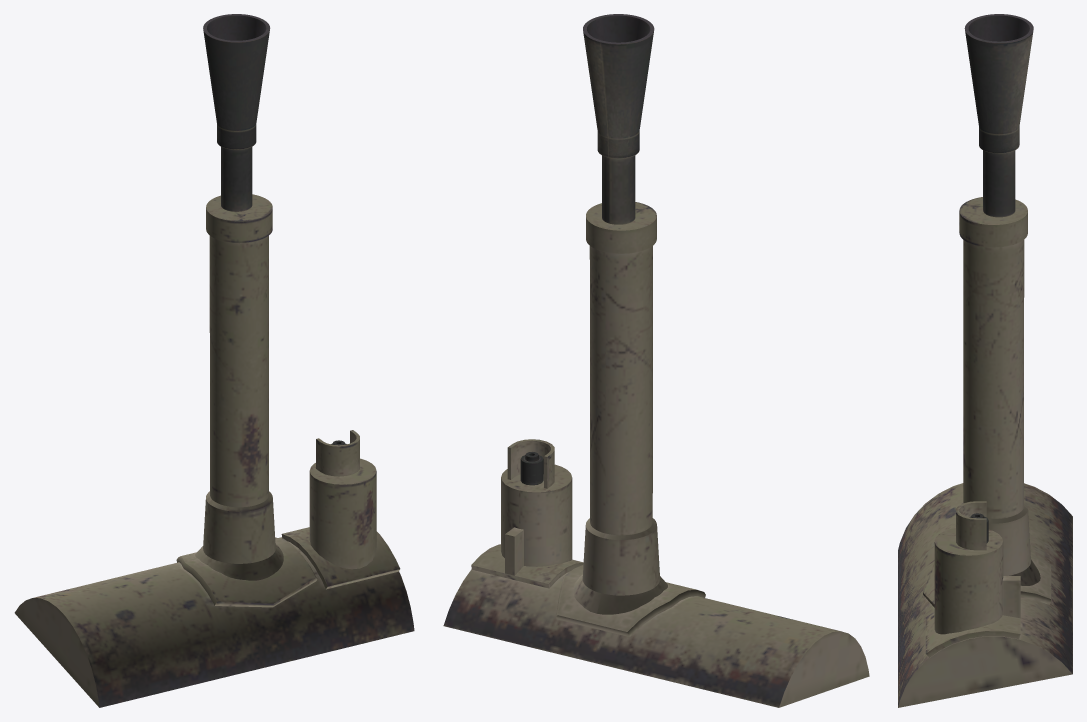
Rendered from Gun_04.glb.
3 views of the same model, side by side, from view 1: azimuth 30°, elevation 25°; view 2: azimuth 150°, elevation 25°; view 3: azimuth 270°, elevation 25° (orthographic). The views are drawn at different scales.
Visible parts, largest first — view 1: set_0_group_0; view 2: set_0_group_0; view 3: set_0_group_0.
Boxes of the visible parts, bbox=[...] form: set_0_group_0: bbox=[14, 14, 414, 707]; set_0_group_0: bbox=[443, 14, 869, 707]; set_0_group_0: bbox=[898, 14, 1072, 707].
Size of the model in its own units: 0.8502 by 1.54 by 0.3977.
1 material, 1 textured.
